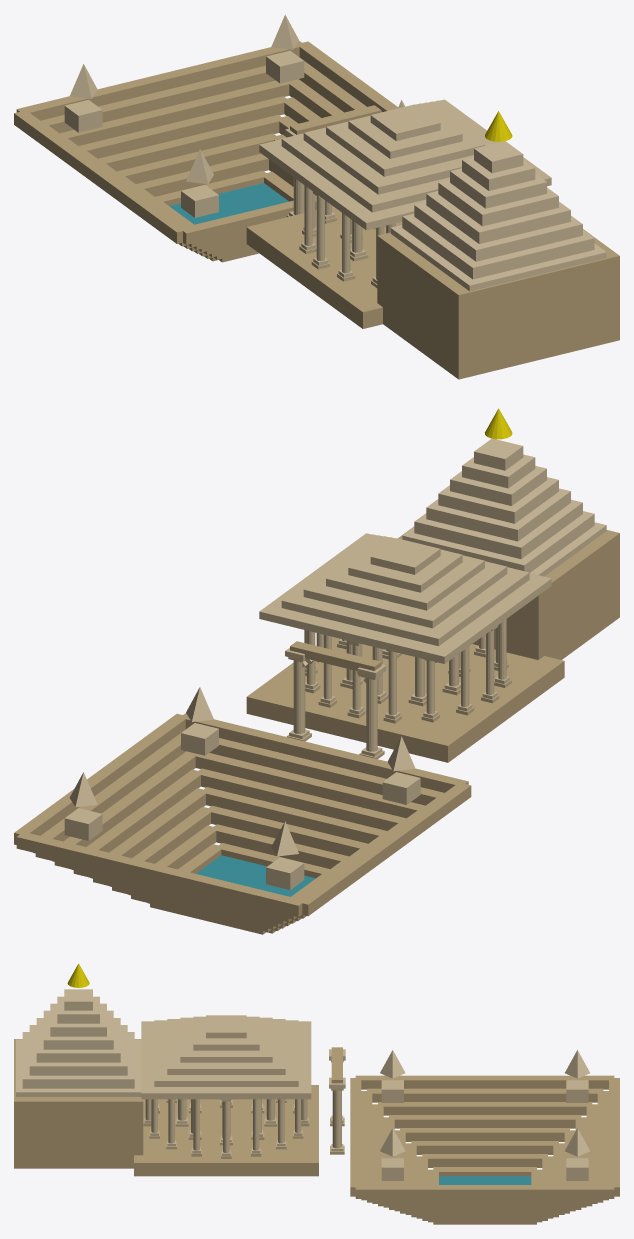
The model's file is modhera.glb.
3 views of the same model, one above another, from view 1: azimuth 30°, elevation 25°; view 2: azimuth 150°, elevation 25°; view 3: azimuth 270°, elevation 25° (orthographic). The views are drawn at different scales.
Parts seen in each view (by area): view 1: geometry_0; view 2: geometry_0; view 3: geometry_0.
Part boxes in pixels (x1=…): geometry_0: x1=14, y1=14, x2=619, y2=379; geometry_0: x1=14, y1=408, x2=619, y2=934; geometry_0: x1=14, y1=963, x2=619, y2=1224.
Bounding box in the file's own units: 14.6 × 14.3 × 32.8.
